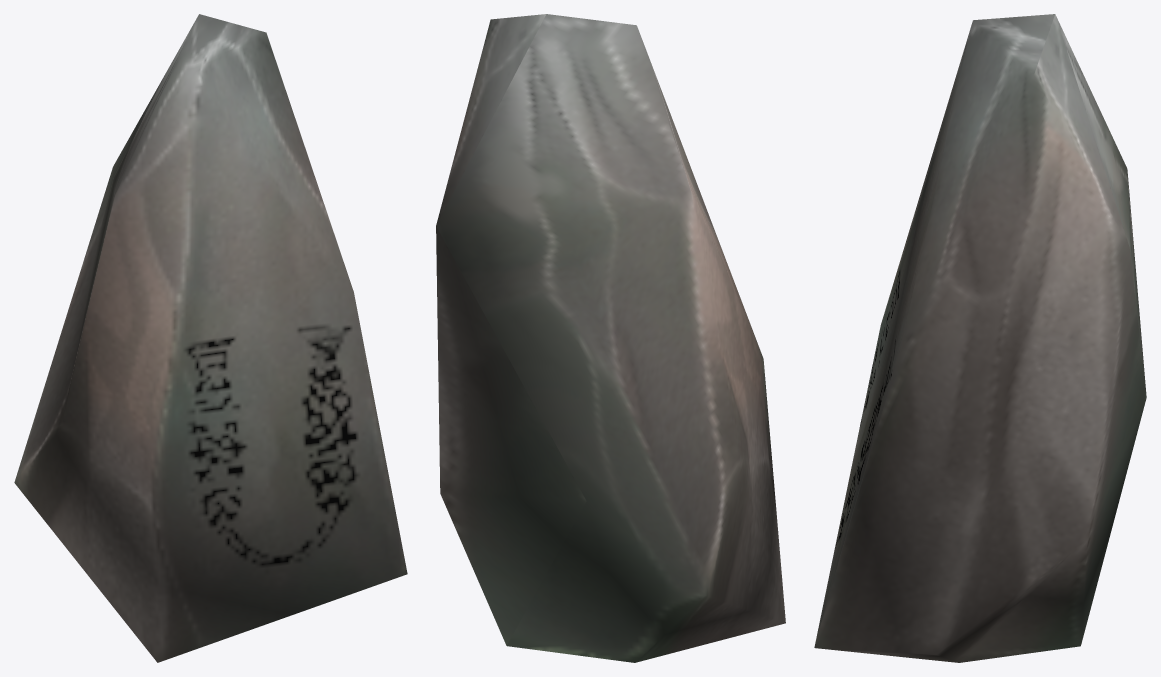
3 views of the same model, side by side, from view 1: azimuth 30°, elevation 25°; view 2: azimuth 150°, elevation 25°; view 3: azimuth 270°, elevation 25° (orthographic). The views are drawn at different scales.
Parts seen in each view (by area): view 1: Ս.001; view 2: Ս.001; view 3: Ս.001.
Boxes of the visible parts, x1,y1,x2,y2 form: Ս.001: (14,14,407,662); Ս.001: (436,14,785,662); Ս.001: (814,14,1146,662).
Size of the model in its own units: 77.56 by 149 by 70.94.
